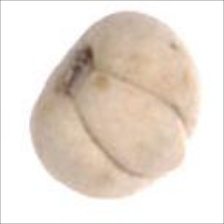L5: (73, 68, 189, 181), (41, 36, 96, 98)
L6: (26, 10, 202, 202)
